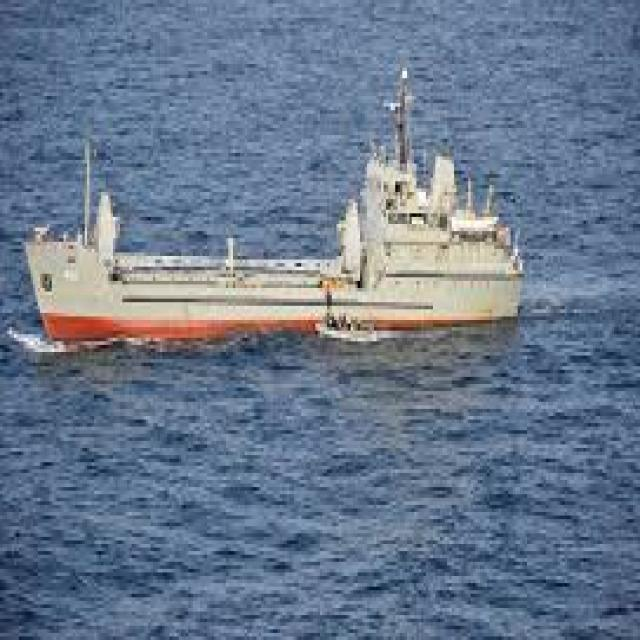navalvessels: (17, 86, 535, 332)
